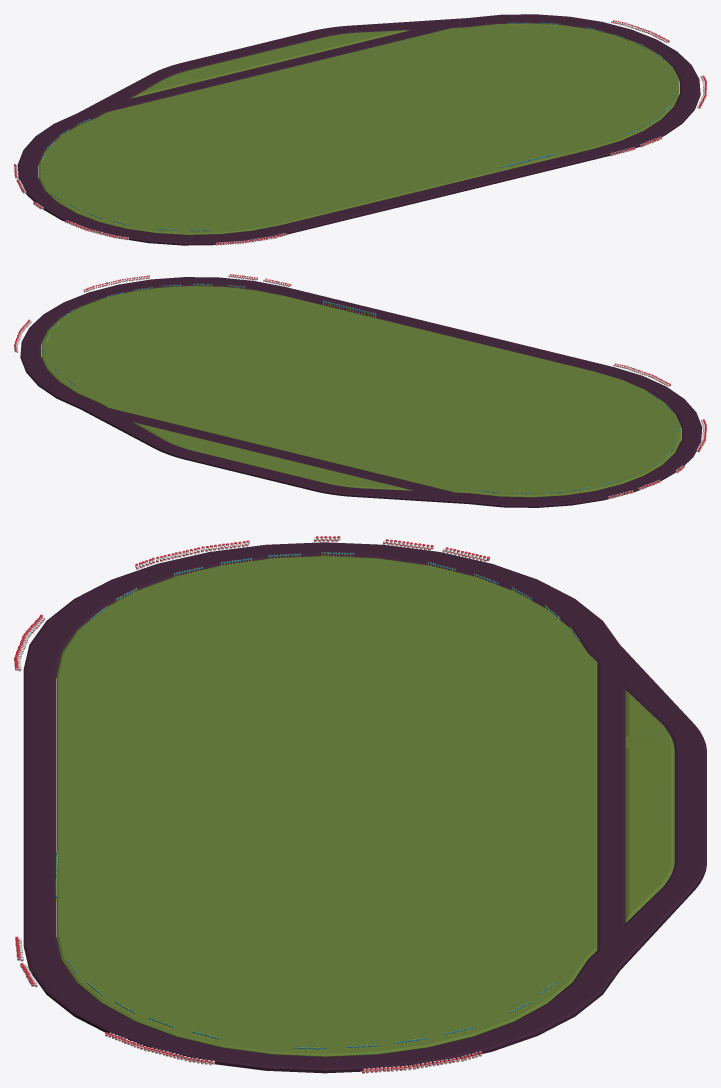
File: pista.glb
3 renders of one model, top to bottom at view 1: azimuth 30°, elevation 25°; view 2: azimuth 150°, elevation 25°; view 3: azimuth 270°, elevation 25°, orthographic. The views are drawn at different scales.
Parts seen in each view (by area): view 1: tierra, Mapa; view 2: tierra, Mapa; view 3: tierra, Mapa.
Boxes of the visible parts, x1,y1,x2,y2 form: tierra: (38,23,679,234); Mapa: (17,14,700,245); tierra: (41,286,681,497); Mapa: (20,277,702,507); tierra: (56,556,674,1056); Mapa: (23,542,706,1073).
Size of what is drawn, in the model's own units: 131 by 1.32 by 72.02.
Materials: 1376 (72 with a texture image).
